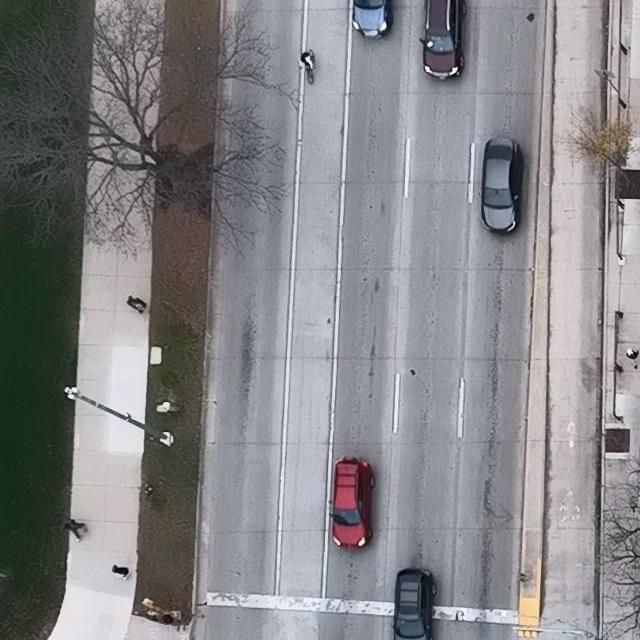car: (327, 455, 376, 551), (479, 138, 525, 235), (418, 0, 467, 82), (389, 567, 437, 640), (352, 0, 394, 39)
